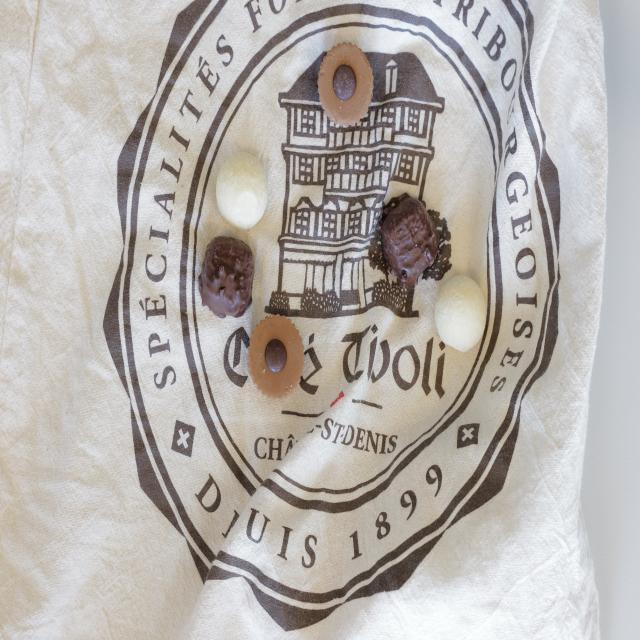Comtesse: (214, 150, 269, 231), (433, 273, 484, 353)
Noblesse: (316, 41, 376, 129), (250, 312, 304, 400)
Tentation_noir: (379, 192, 437, 284), (198, 236, 253, 317)
